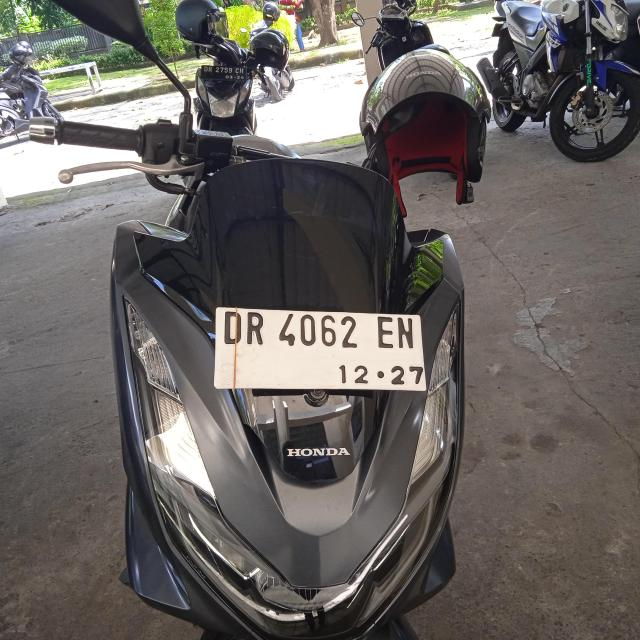plate: (216, 308, 426, 391), (200, 65, 246, 81)
